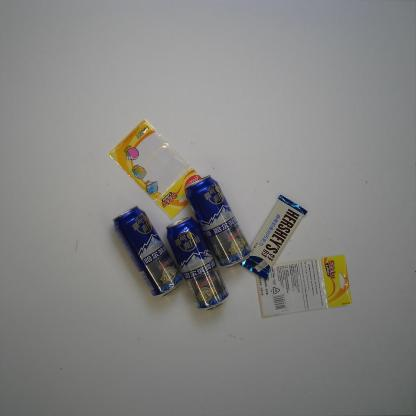Alcohol: (111, 204, 185, 299), (184, 174, 252, 268), (165, 215, 230, 313)
Chocolate: (239, 194, 308, 281)
Stationery: (107, 116, 204, 222), (255, 253, 353, 319)
